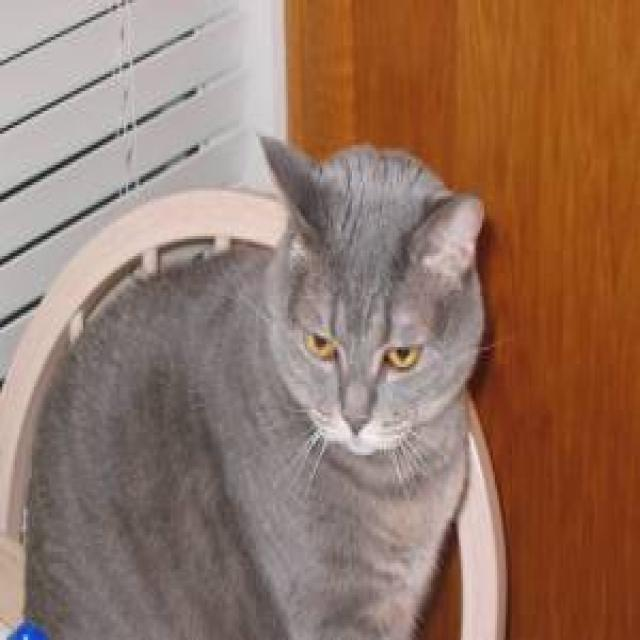British_Shorthair: (259, 130, 497, 463)
